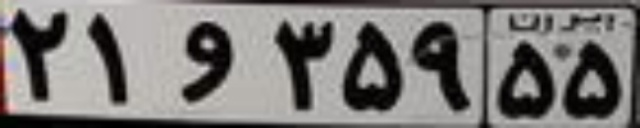1: (85, 11, 132, 105)
2: (9, 7, 70, 101)
3: (272, 18, 335, 112)
5: (340, 19, 400, 114), (562, 38, 624, 119), (494, 39, 556, 119)
9: (406, 19, 469, 113)
vav: (178, 21, 234, 103)
